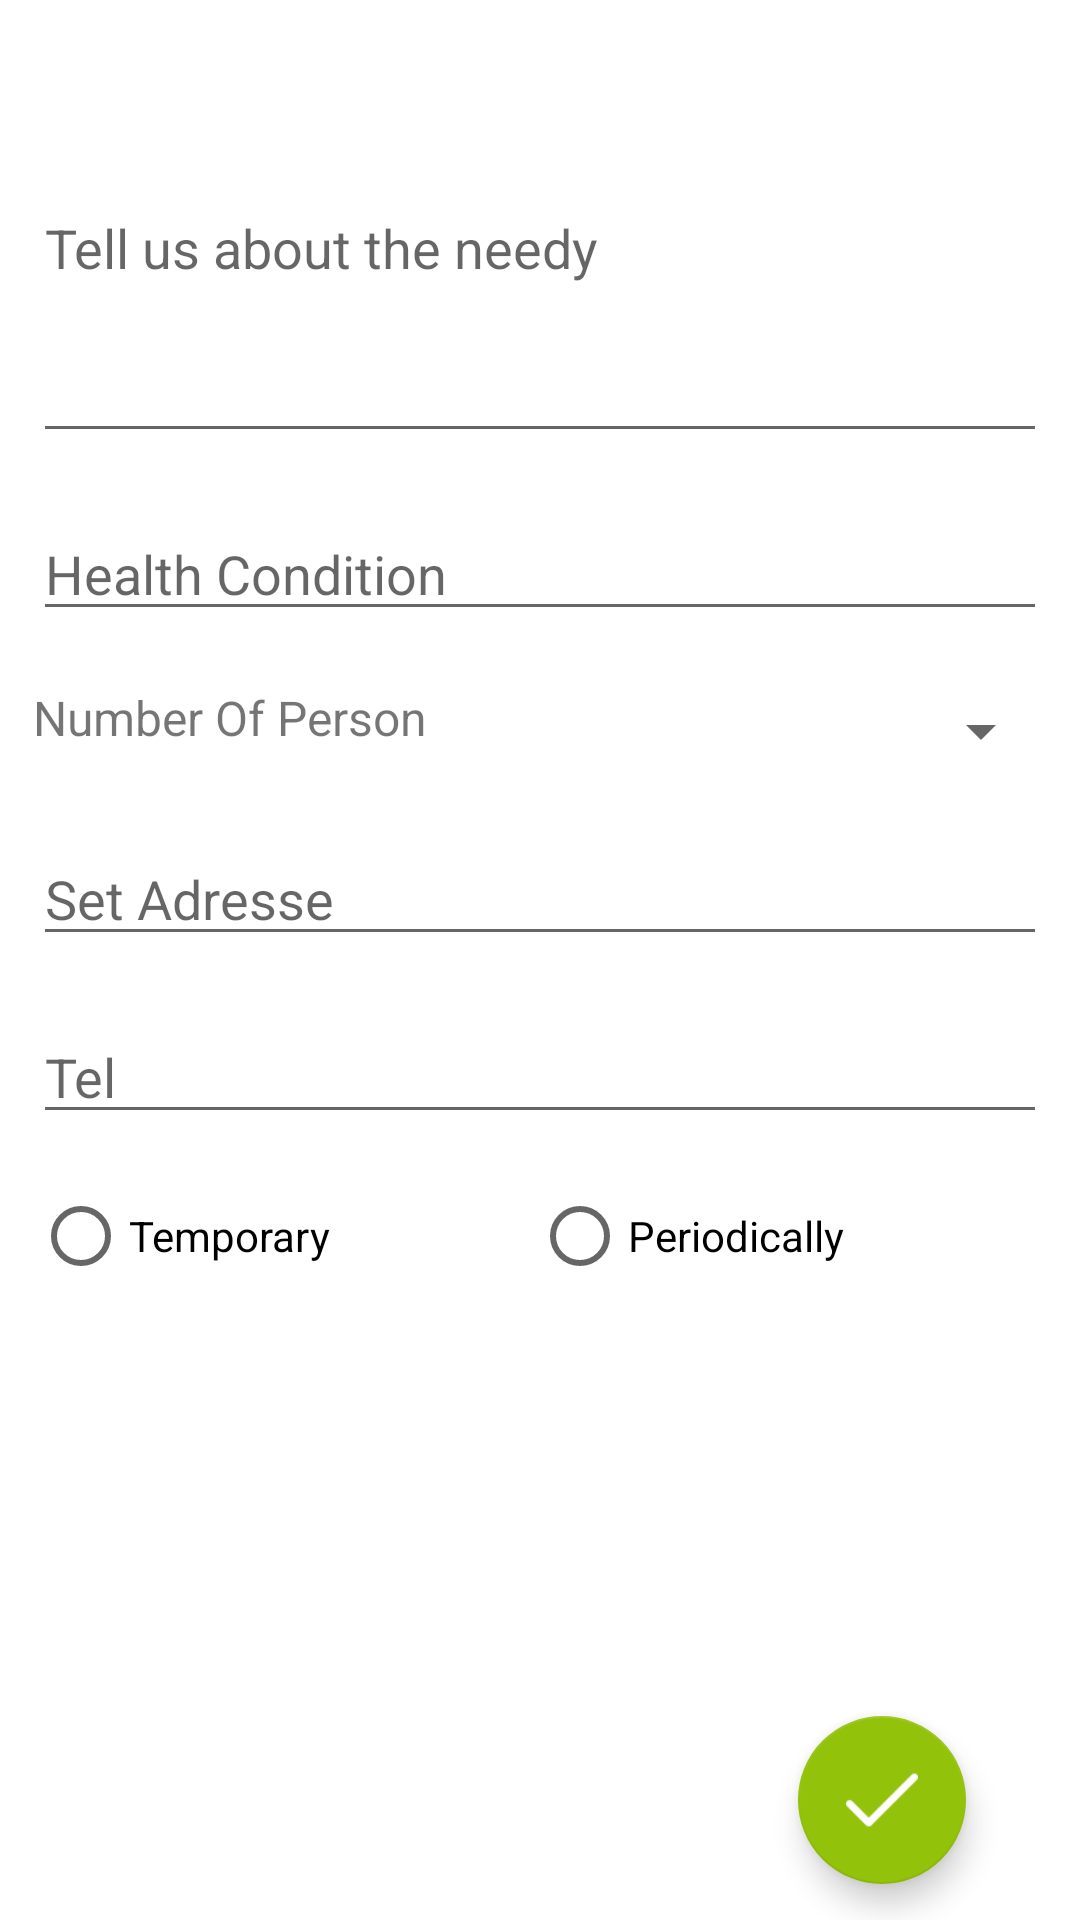

Icons on this 1080px×1920px Android screen, each with the point to tap as (x,y):
tick: (882,1800)
